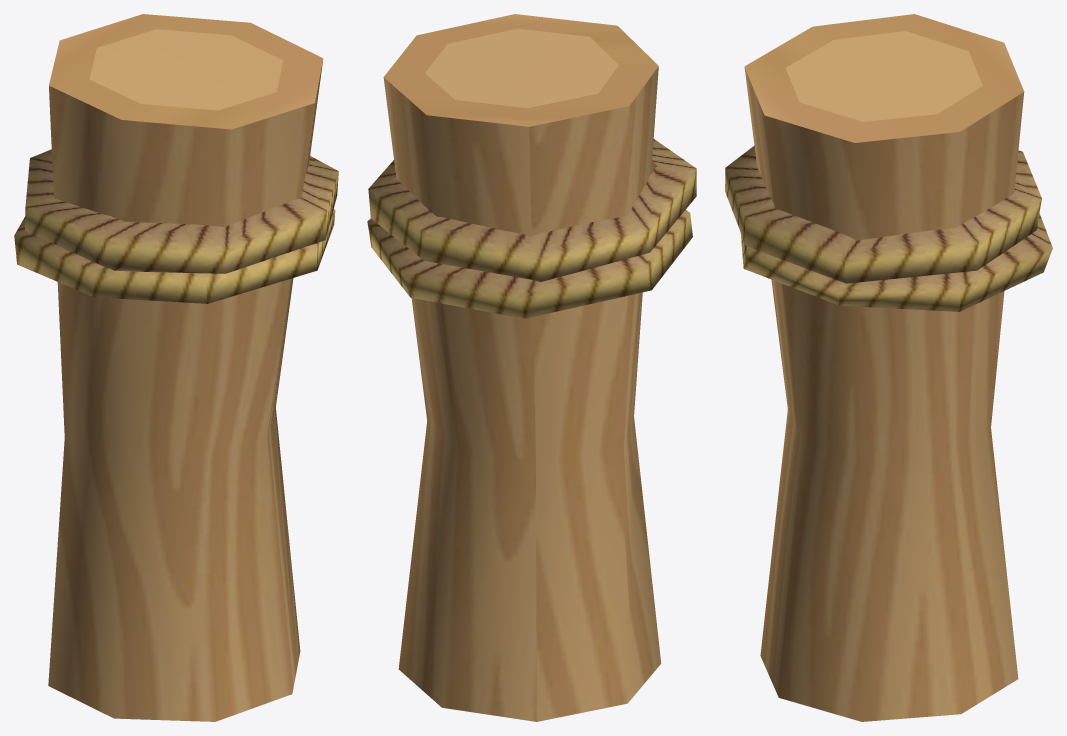
File: DefaultIglooWoodPost.fbx
The picture shows the model from 3 angles, left to right: view 1: azimuth 30°, elevation 25°; view 2: azimuth 150°, elevation 25°; view 3: azimuth 270°, elevation 25°; orthographic projection.
Visible parts, largest first — view 1: DefaultIglooWoodPost; view 2: DefaultIglooWoodPost; view 3: DefaultIglooWoodPost.
Boxes of the visible parts, x1=… form: DefaultIglooWoodPost: x1=14, y1=14, x2=338, y2=721; DefaultIglooWoodPost: x1=367, y1=14, x2=696, y2=721; DefaultIglooWoodPost: x1=725, y1=14, x2=1052, y2=721.
Bounding box in the file's own units: 35.55 × 72.5 × 35.97.
